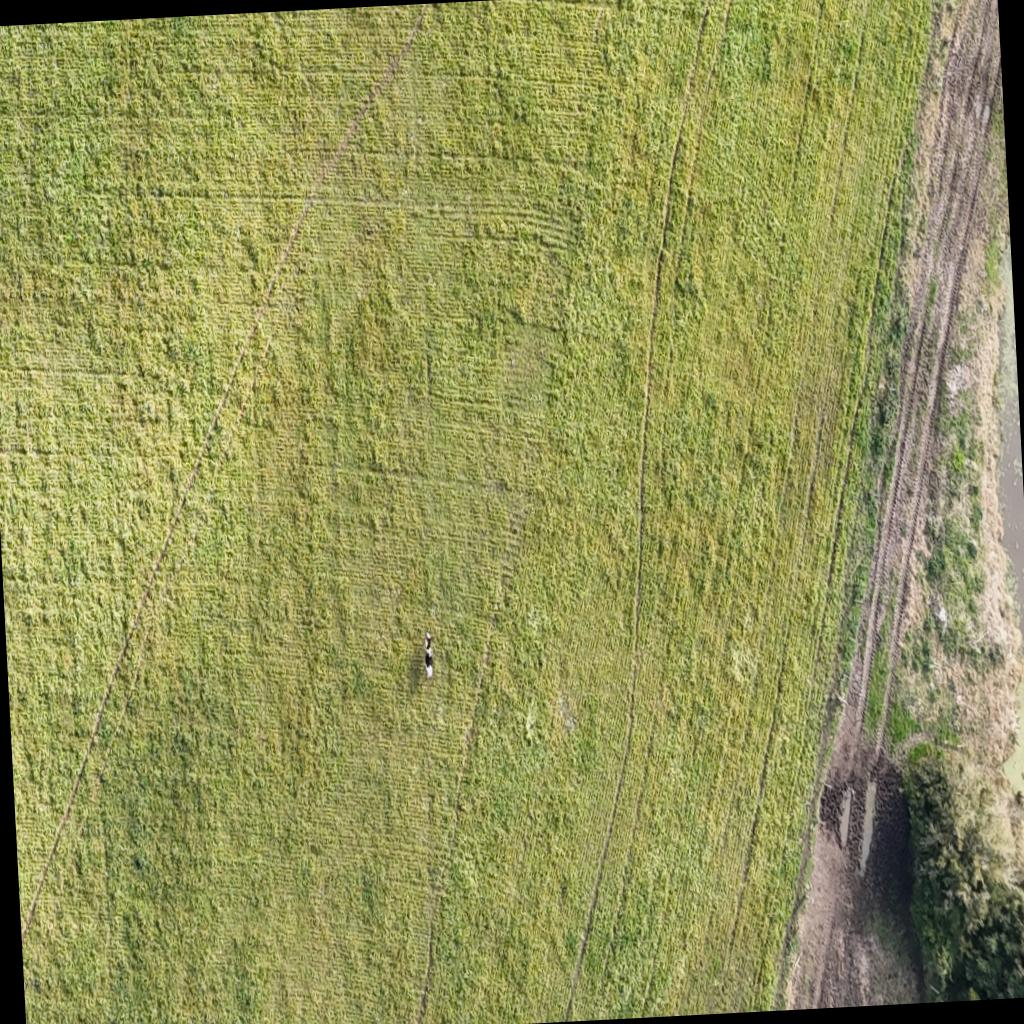cow: (420, 631, 438, 686)
